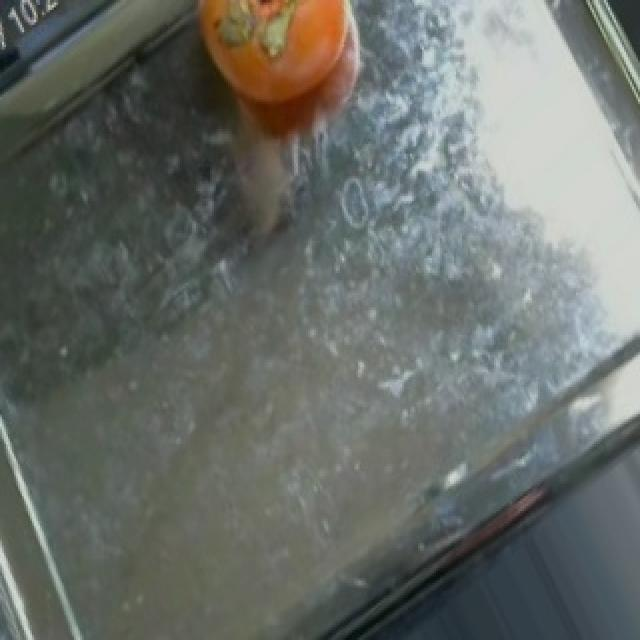Fruit: (170, 0, 384, 156)
